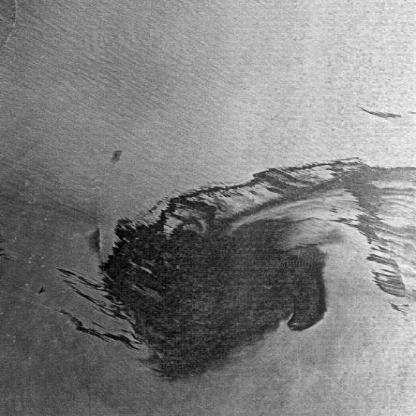oil: (75, 160, 415, 386)
